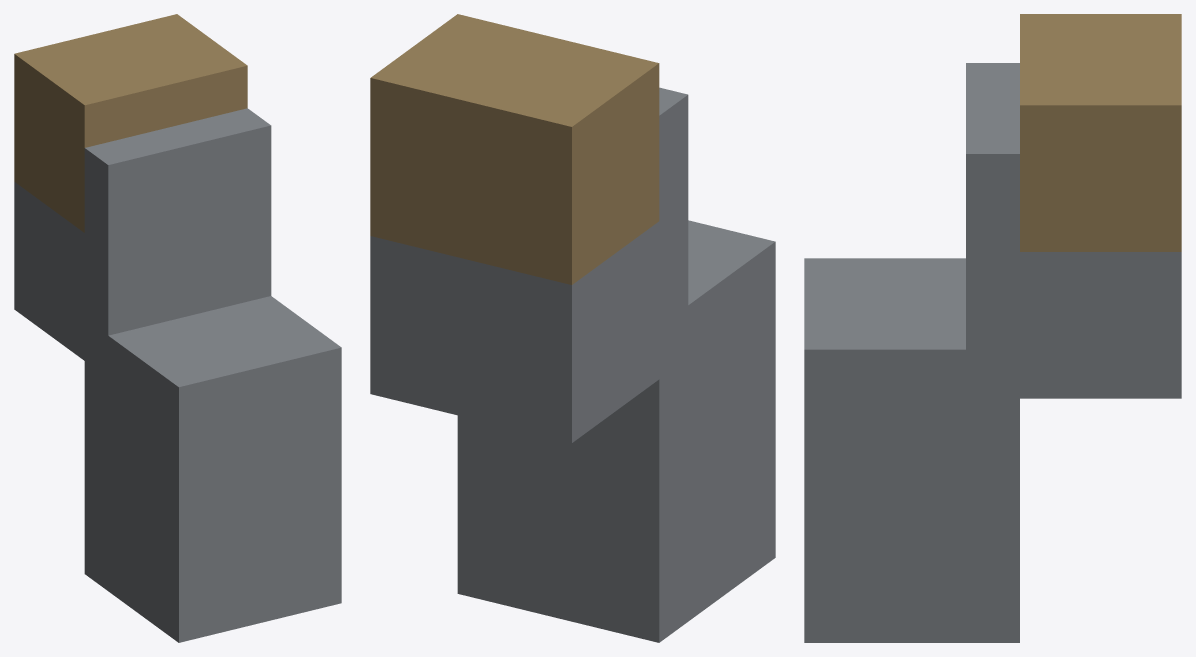
File: leg_fl_thigh.glb
3 views of the same model, side by side, from view 1: azimuth 30°, elevation 25°; view 2: azimuth 150°, elevation 25°; view 3: azimuth 270°, elevation 25° (orthographic). The views are drawn at different scales.
Size of the model in its own units: 4 by 11 by 7.
